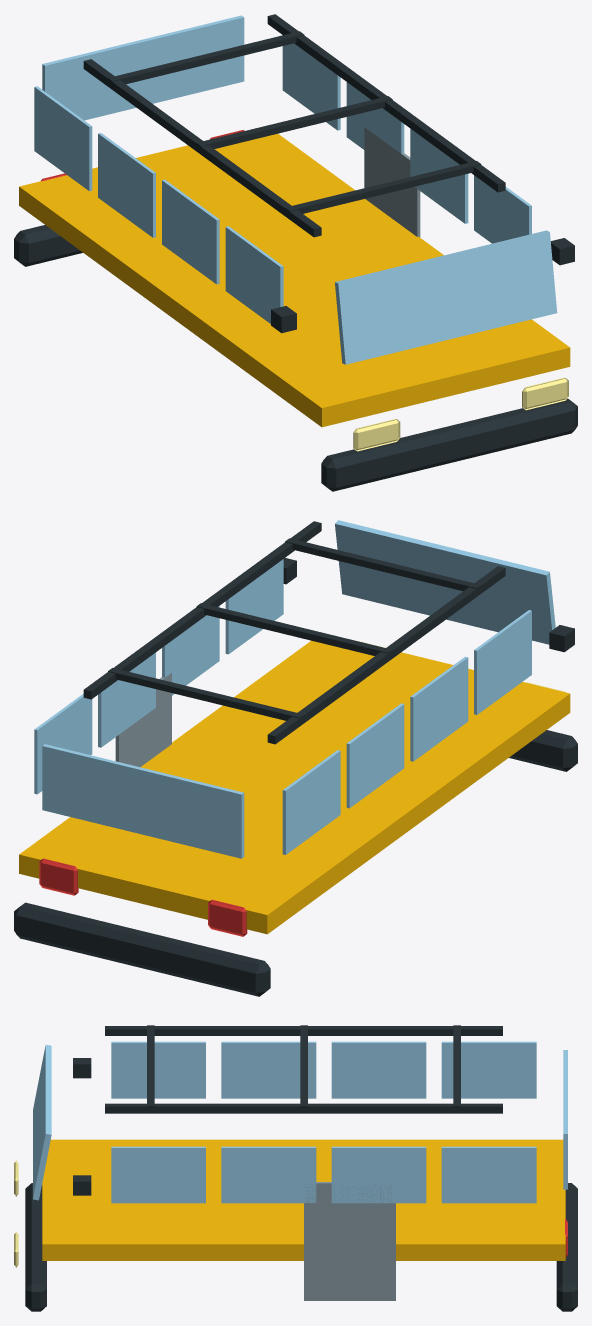
File: Minibus_Detay.fbx
3 renders of one model, top to bottom at view 1: azimuth 30°, elevation 25°; view 2: azimuth 150°, elevation 25°; view 3: azimuth 270°, elevation 25°, orthographic. The views are drawn at different scales.
Visible parts, largest first — view 1: Minibus_Detay; view 2: Minibus_Detay; view 3: Minibus_Detay.
Part boxes in pixels (x1,y1,x2,y2): Minibus_Detay: [14, 14, 577, 491]; Minibus_Detay: [14, 520, 577, 996]; Minibus_Detay: [14, 1025, 577, 1311].
Size of the model in its own units: 191 by 141 by 369.
